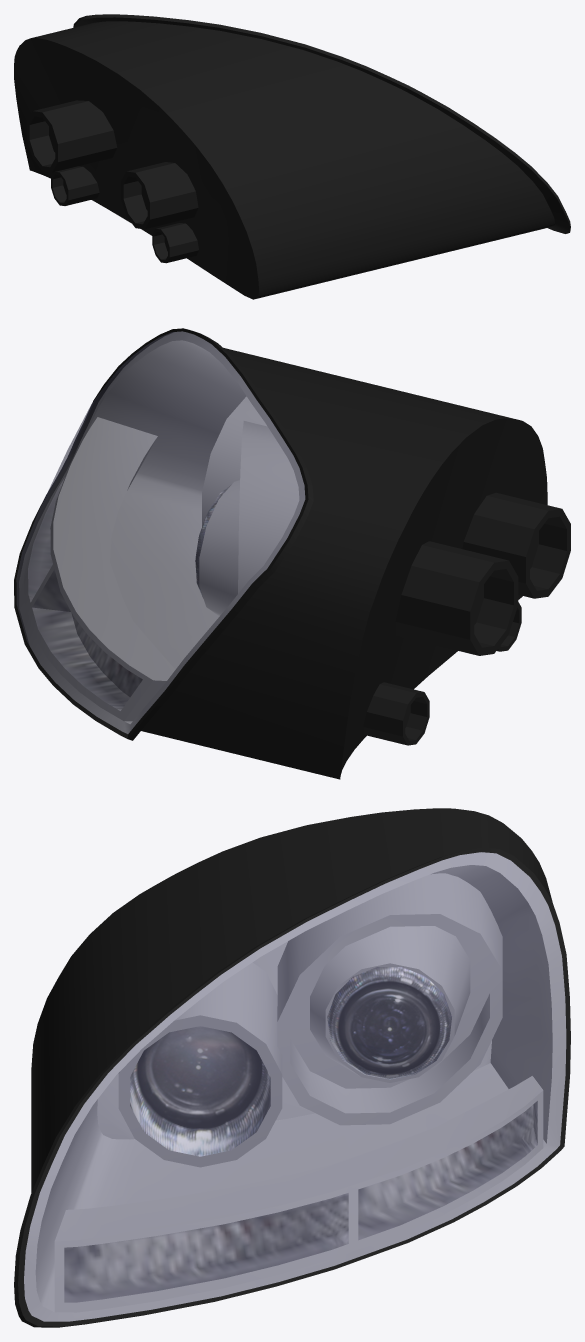
3 views of the same model, one above another, from view 1: azimuth 30°, elevation 25°; view 2: azimuth 150°, elevation 25°; view 3: azimuth 270°, elevation 25° (orthographic). The views are drawn at different scales.
Parts seen in each view (by area): view 1: X6164_20_061B_L_X6164_20_061B_L_4_D; view 2: X6164_20_061B_L_X6164_20_061B_L_4_D, X6164_20_061B_L_X6164_20_061B_L_6_DTaSI, X6164_20_061B_L_X6164_20_061B_L_7_DaS, X6164_20_061B_L_X6164_20_061B_L_2_N, X6164_20_061B_L_X6164_20_061B_L_3_N; view 3: X6164_20_061B_L_X6164_20_061B_L_6_DTaSI, X6164_20_061B_L_X6164_20_061B_L_7_DaS, X6164_20_061B_L_X6164_20_061B_L_4_D, X6164_20_061B_L_X6164_20_061B_L_3_N, X6164_20_061B_L_X6164_20_061B_L_1_N, X6164_20_061B_L_5_N_X6164_20_061B_L, X6164_20_061B_L_X6164_20_061B_L_2_N.
Boxes of the visible parts, bbox=[...] form: X6164_20_061B_L_X6164_20_061B_L_4_D: bbox=[14, 14, 570, 299]; X6164_20_061B_L_X6164_20_061B_L_4_D: bbox=[14, 328, 570, 779]; X6164_20_061B_L_X6164_20_061B_L_6_DTaSI: bbox=[16, 331, 304, 733]; X6164_20_061B_L_X6164_20_061B_L_7_DaS: bbox=[19, 331, 305, 733]; X6164_20_061B_L_X6164_20_061B_L_2_N: bbox=[32, 569, 142, 710]; X6164_20_061B_L_X6164_20_061B_L_3_N: bbox=[28, 478, 64, 601]; X6164_20_061B_L_X6164_20_061B_L_6_DTaSI: bbox=[24, 852, 565, 1321]; X6164_20_061B_L_X6164_20_061B_L_7_DaS: bbox=[24, 852, 566, 1321]; X6164_20_061B_L_X6164_20_061B_L_4_D: bbox=[14, 808, 570, 1327]; X6164_20_061B_L_X6164_20_061B_L_3_N: bbox=[64, 1193, 348, 1302]; X6164_20_061B_L_X6164_20_061B_L_1_N: bbox=[130, 1026, 270, 1156]; X6164_20_061B_L_5_N_X6164_20_061B_L: bbox=[327, 967, 451, 1079]; X6164_20_061B_L_X6164_20_061B_L_2_N: bbox=[358, 1101, 537, 1239].
Bounding box in the file's own units: 50.09 × 22.47 × 41.82.
